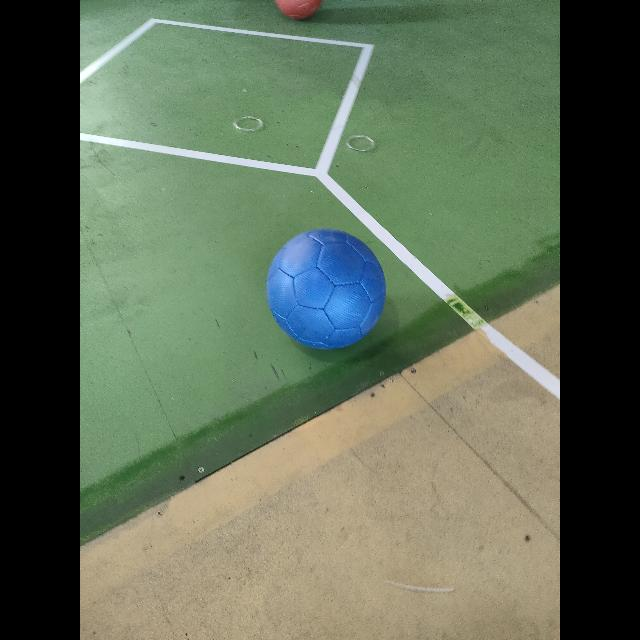B: (266, 229, 386, 349)
R: (276, 0, 322, 18)
